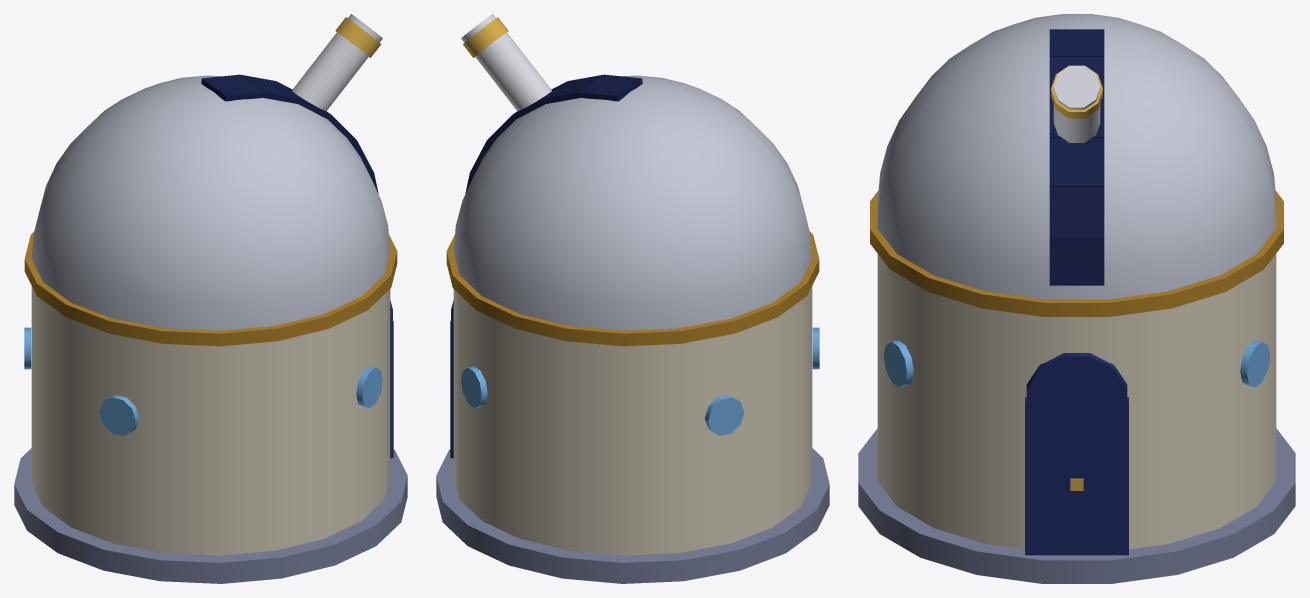
Rendered from observatory-deco1.glb.
The picture shows the model from 3 angles, left to right: view 1: azimuth 30°, elevation 25°; view 2: azimuth 150°, elevation 25°; view 3: azimuth 270°, elevation 25°; orthographic projection. The views are drawn at different scales.
Parts seen in each view (by area): view 1: observatory-deco1; view 2: observatory-deco1; view 3: observatory-deco1.
Boxes of the visible parts, x1=… form: observatory-deco1: x1=14, y1=14, x2=407, y2=583; observatory-deco1: x1=436, y1=14, x2=829, y2=583; observatory-deco1: x1=858, y1=14, x2=1295, y2=583.
Bounding box in the file's own units: 3.36 × 4.28 × 3.36.
